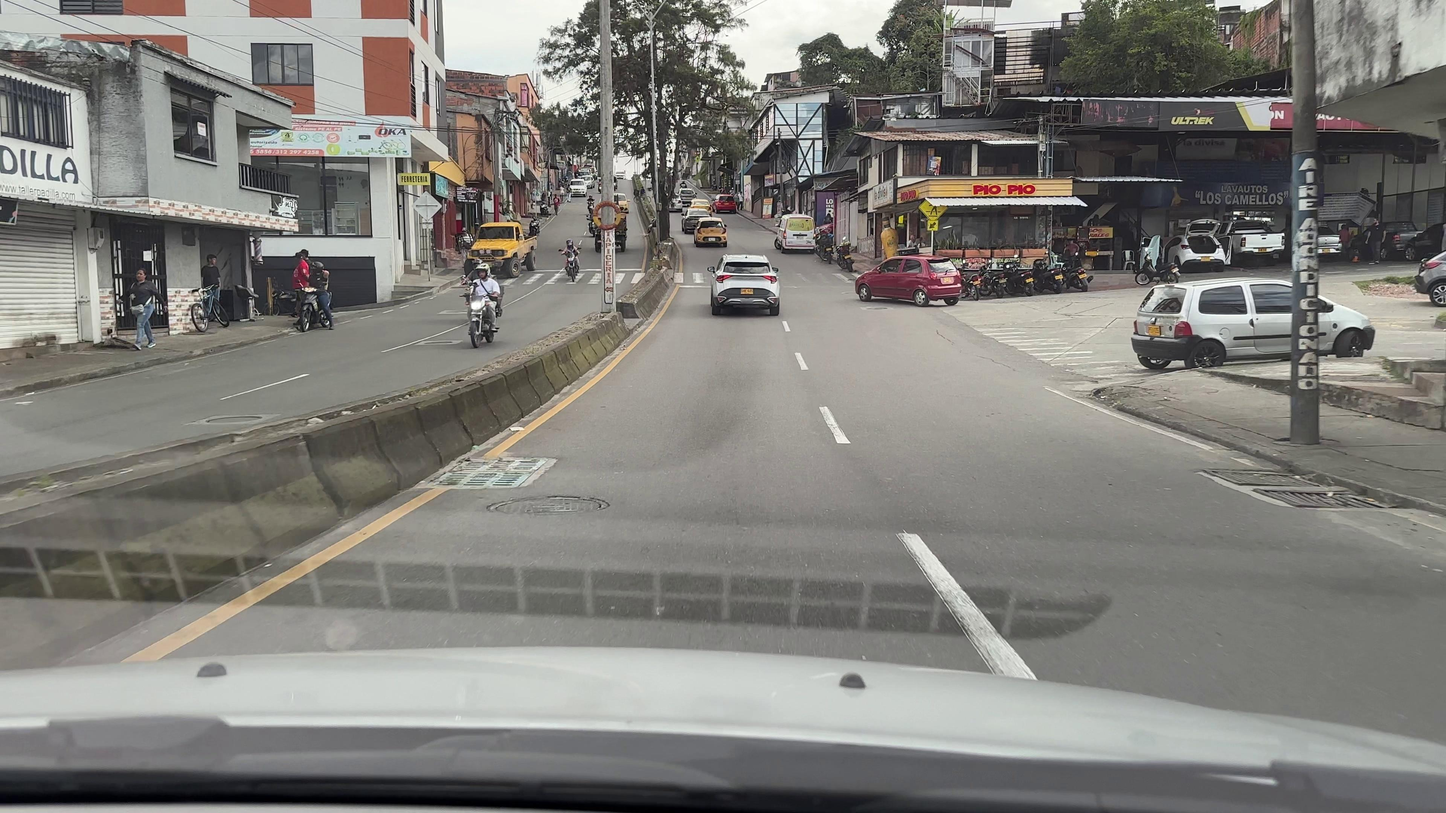registro: (490, 496, 609, 515)
rejilla: (428, 458, 549, 487), (1254, 490, 1392, 509), (1203, 470, 1322, 487)
